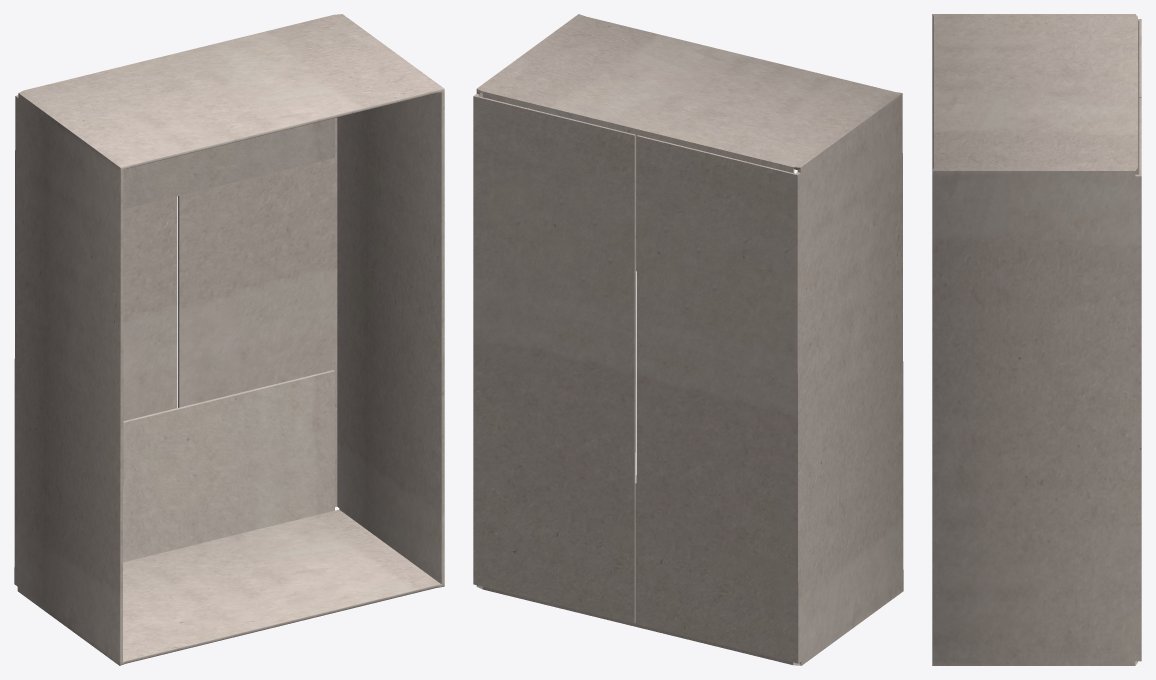
Rendered from MeshBox_25_0.obj.
The picture shows the model from 3 angles, left to right: view 1: azimuth 30°, elevation 25°; view 2: azimuth 150°, elevation 25°; view 3: azimuth 270°, elevation 25°; orthographic projection.
Visible parts, largest first — view 1: Box_25; view 2: Box_25; view 3: Box_25.
Boxes of the visible parts, x1,y1,x2,y2 form: Box_25: [14, 14, 444, 665]; Box_25: [473, 14, 903, 665]; Box_25: [932, 14, 1141, 665].
Size of the model in its own units: 0.2233 by 0.3271 by 0.1256.
